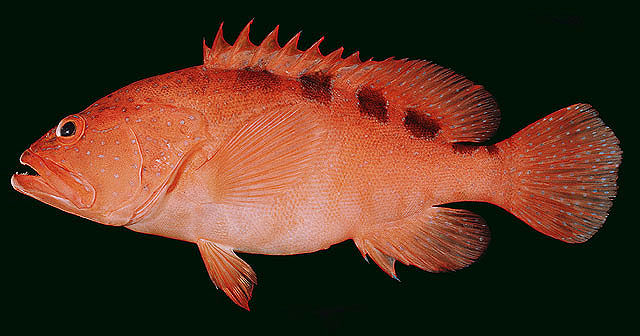fish: (12, 19, 624, 310)
